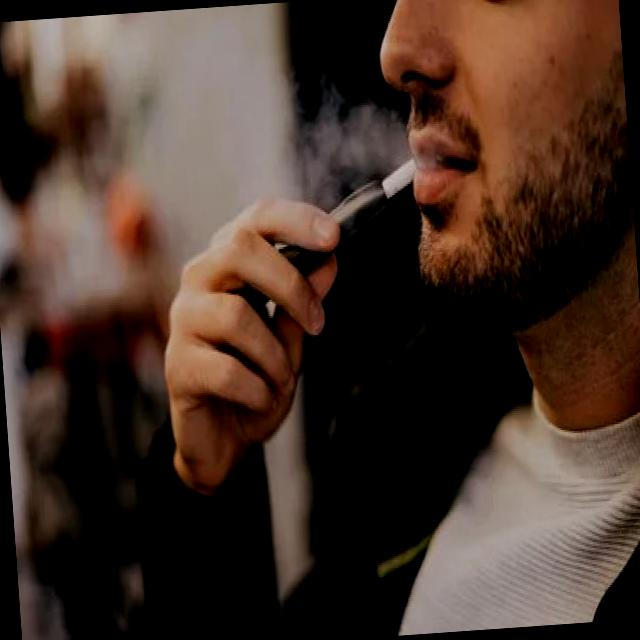smoke: (268, 149, 426, 293)
